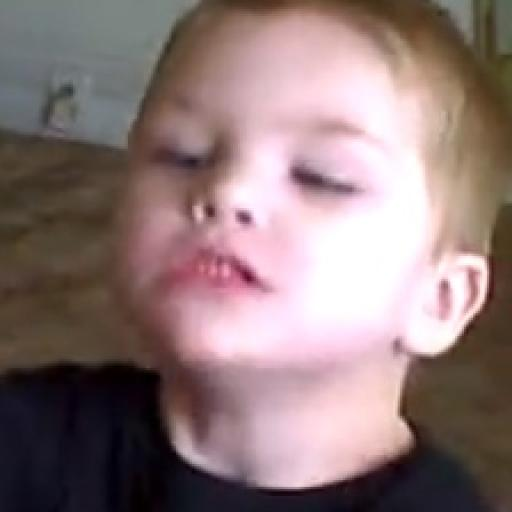Autism: (73, 10, 499, 386)
